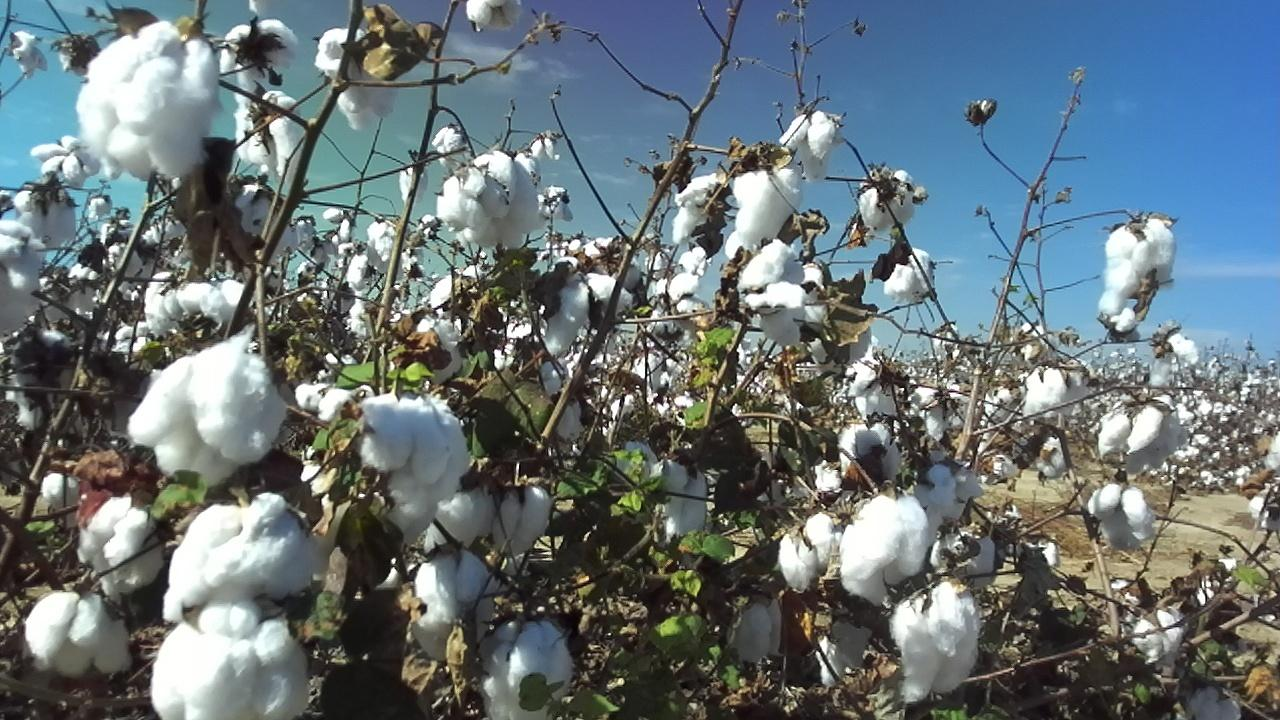cotton_ready: (125, 342, 285, 489), (75, 20, 220, 180), (161, 492, 322, 623), (151, 600, 312, 720), (362, 394, 472, 543), (892, 575, 984, 703), (838, 489, 932, 607), (436, 149, 545, 249), (412, 544, 497, 663), (480, 619, 577, 720), (423, 482, 549, 557), (75, 494, 164, 597), (25, 594, 131, 675), (317, 27, 401, 129), (545, 258, 632, 352), (1100, 215, 1177, 314), (738, 241, 807, 345), (145, 273, 249, 334), (733, 157, 804, 246), (235, 90, 305, 177), (1100, 400, 1182, 474), (0, 219, 47, 337), (805, 294, 872, 373), (219, 20, 297, 87), (645, 272, 715, 345), (918, 455, 985, 529), (234, 182, 295, 262), (650, 459, 709, 539), (777, 109, 839, 181), (780, 512, 832, 594), (540, 355, 588, 443), (818, 617, 879, 686), (1086, 486, 1155, 544), (13, 190, 80, 249), (858, 167, 919, 230), (670, 173, 722, 245), (839, 422, 901, 482), (411, 314, 467, 379), (734, 602, 789, 665), (32, 134, 99, 185), (846, 330, 882, 422), (1024, 364, 1085, 418), (294, 380, 376, 418), (1176, 677, 1240, 720), (884, 250, 934, 304), (1132, 610, 1186, 660), (465, 0, 524, 32)
